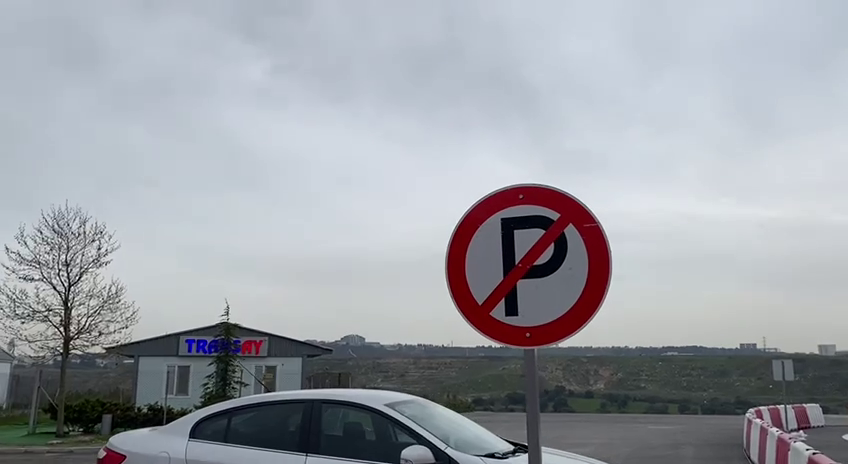noparking: (441, 180, 615, 351)
